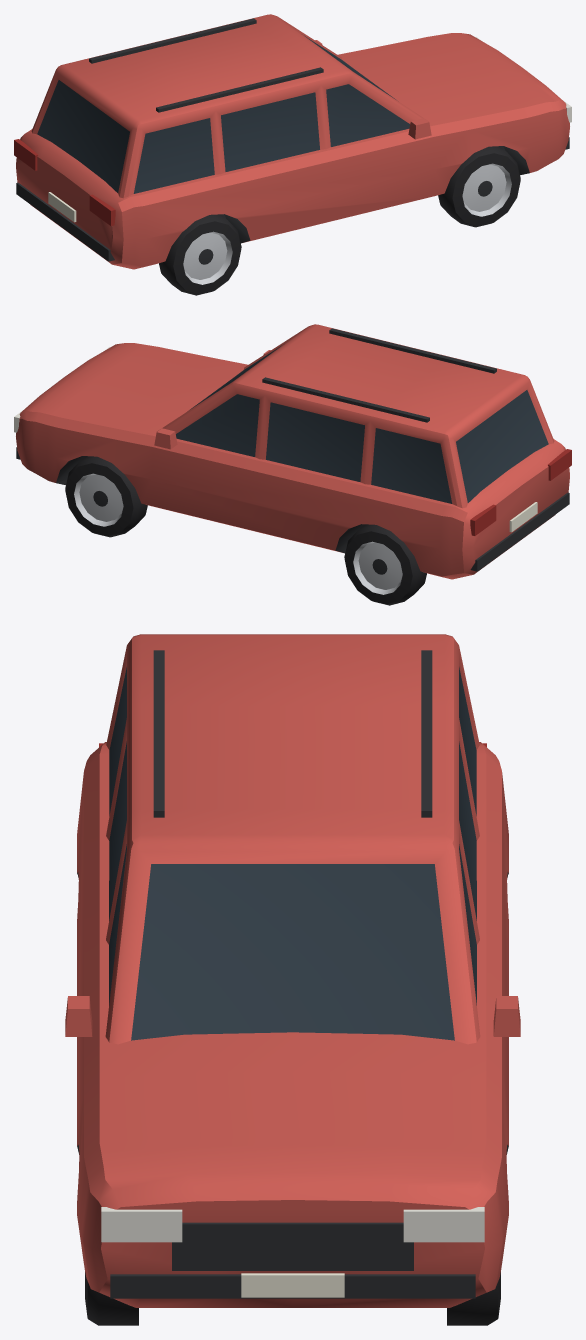
File: suv.glb
The picture shows the model from 3 angles, top to bottom: view 1: azimuth 30°, elevation 25°; view 2: azimuth 150°, elevation 25°; view 3: azimuth 270°, elevation 25°; orthographic projection. The views are drawn at different scales.
Parts seen in each view (by area): view 1: suv; view 2: suv; view 3: suv.
Boxes of the visible parts, x1,y1,x2,y2 form: suv: [14, 14, 571, 295]; suv: [14, 324, 571, 605]; suv: [65, 634, 520, 1325].
Size of the model in its own units: 4.76 by 1.78 by 2.02.
